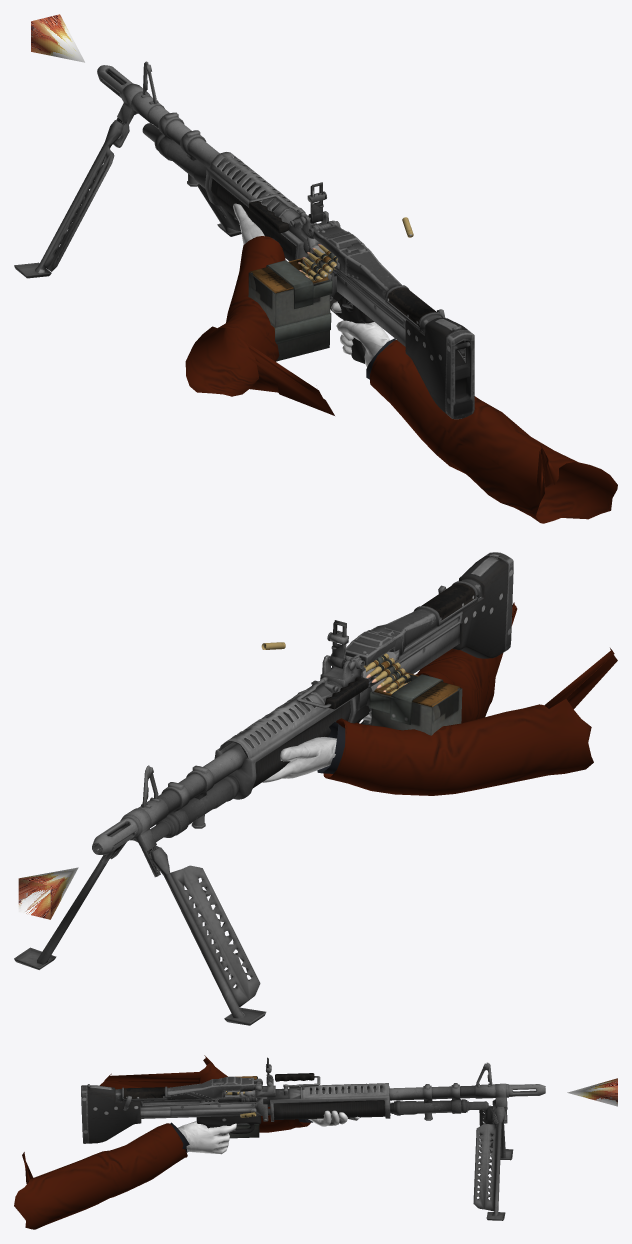
File: frame_0006.obj
3 views of the same model, one above another, from view 1: azimuth 30°, elevation 25°; view 2: azimuth 150°, elevation 25°; view 3: azimuth 270°, elevation 25° (orthographic). The views are drawn at different scales.
Visible parts, largest first — view 1: Mesh.005, PlayerModelMerged.001_PlayerModelMerged, Plane, Mesh.001; view 2: Mesh.005, PlayerModelMerged.001_PlayerModelMerged, Plane, Mesh.001; view 3: Mesh.005, PlayerModelMerged.001_PlayerModelMerged, Plane.
Part boxes in pixels (bbox=[...]): Mesh.005: bbox=[14, 61, 474, 419]; PlayerModelMerged.001_PlayerModelMerged: bbox=[185, 203, 617, 523]; Plane: bbox=[31, 14, 84, 62]; Mesh.001: bbox=[298, 244, 337, 280]; Mesh.005: bbox=[14, 552, 513, 1025]; PlayerModelMerged.001_PlayerModelMerged: bbox=[262, 602, 617, 795]; Plane: bbox=[18, 867, 78, 919]; Mesh.001: bbox=[365, 653, 410, 692]; Mesh.005: bbox=[81, 1057, 545, 1220]; PlayerModelMerged.001_PlayerModelMerged: bbox=[14, 1055, 359, 1229]; Plane: bbox=[567, 1078, 617, 1106].
Size of the model in its own units: 0.9492 by 0.7084 by 2.68.
